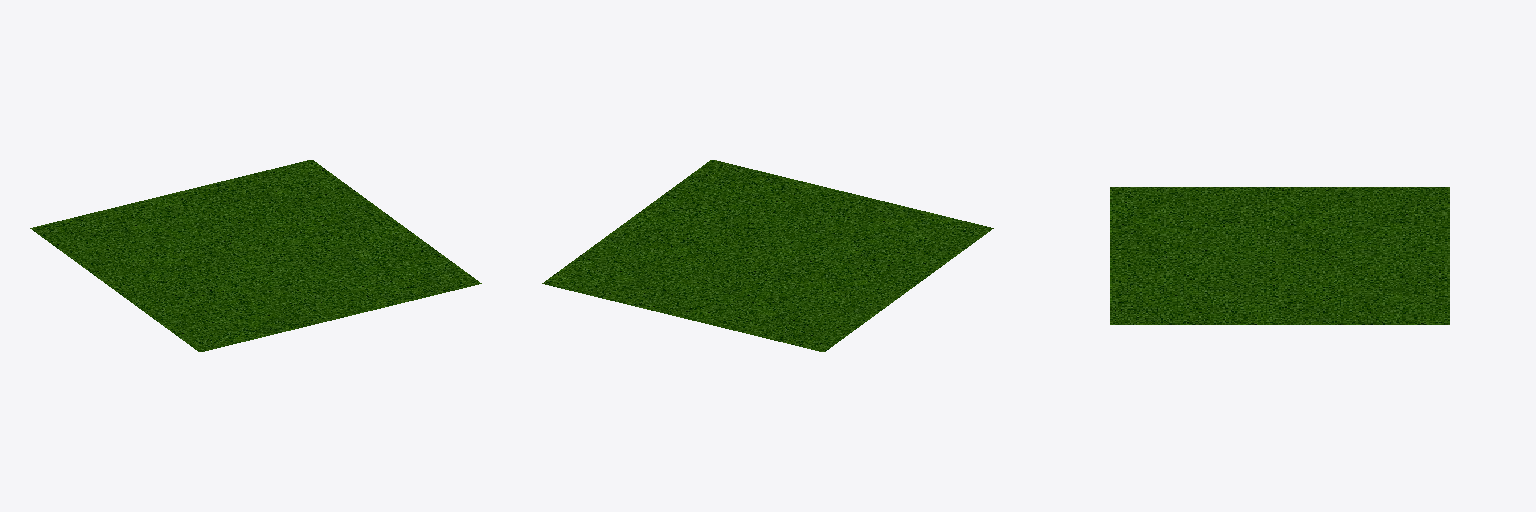
3 renders of one model, left to right at view 1: azimuth 30°, elevation 25°; view 2: azimuth 150°, elevation 25°; view 3: azimuth 270°, elevation 25°, orthographic.
Parts seen in each view (by area): view 1: Plane; view 2: Plane; view 3: Plane.
Part boxes in pixels (x1,y1,x2,y2): Plane: (30,160,481,351); Plane: (542,160,993,351); Plane: (1110,187,1449,324).
Size of the model in its own units: 17.14 by 0 by 17.87.
Materials: 1 (1 with a texture image).